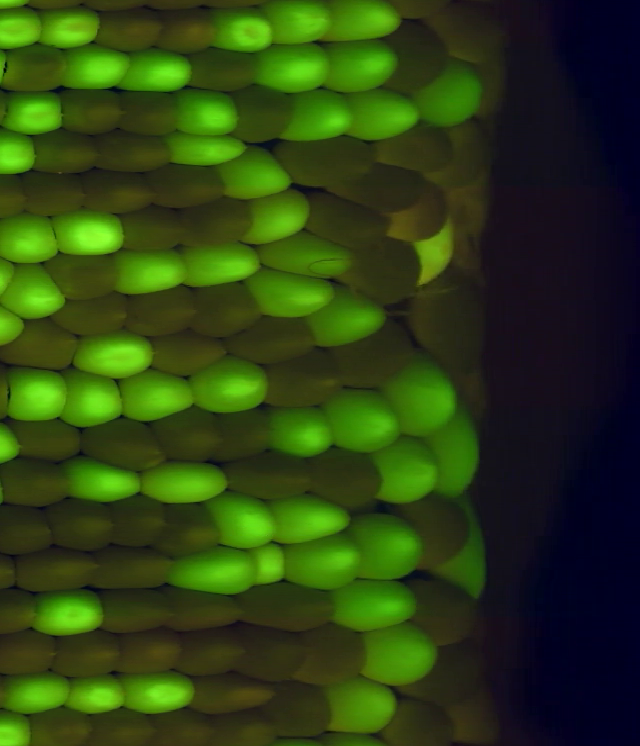fluorescent: (382, 353, 458, 441), (342, 513, 427, 585), (366, 431, 445, 507), (320, 386, 402, 459), (309, 282, 394, 350), (257, 225, 357, 280), (355, 624, 441, 687), (205, 487, 284, 555), (189, 355, 274, 418), (428, 397, 479, 502), (158, 546, 264, 594), (418, 57, 488, 129), (247, 265, 343, 317), (327, 578, 421, 631), (342, 86, 423, 143), (323, 37, 401, 96), (121, 362, 197, 422), (58, 453, 149, 503), (53, 366, 124, 429), (29, 588, 113, 641), (3, 362, 73, 425), (269, 493, 354, 544), (255, 39, 333, 93), (202, 4, 278, 59), (109, 246, 196, 294), (287, 538, 364, 591), (319, 682, 399, 733), (266, 403, 336, 461), (217, 146, 295, 198), (139, 460, 233, 503), (4, 260, 68, 322), (239, 191, 313, 243), (74, 333, 159, 378), (122, 46, 195, 98), (49, 208, 128, 256), (119, 669, 199, 716), (319, 1, 404, 45), (285, 90, 355, 143), (163, 129, 249, 172), (261, 1, 336, 49), (63, 44, 131, 96), (0, 211, 62, 267), (184, 242, 260, 287), (450, 520, 493, 598), (1, 88, 68, 138), (33, 6, 107, 51), (175, 88, 238, 137), (7, 670, 75, 715), (69, 672, 131, 716), (0, 127, 41, 177), (0, 7, 45, 52), (247, 541, 291, 585), (0, 711, 35, 746), (0, 1, 38, 15)
nonfluorescent: (411, 264, 490, 373), (398, 493, 473, 580), (400, 572, 482, 650), (340, 237, 424, 309), (305, 188, 392, 257), (381, 22, 454, 96), (229, 311, 326, 366), (401, 646, 486, 708), (237, 582, 339, 632), (256, 352, 344, 409), (276, 134, 373, 185), (4, 315, 81, 377), (234, 625, 308, 689), (327, 338, 414, 391), (221, 451, 317, 499), (82, 416, 165, 471), (297, 623, 366, 687), (144, 330, 232, 380), (372, 123, 454, 176), (41, 499, 119, 554), (154, 499, 225, 559), (343, 161, 423, 214), (307, 449, 384, 504), (90, 546, 177, 594), (384, 179, 451, 241), (189, 279, 257, 339), (96, 127, 175, 177), (157, 409, 227, 465), (443, 13, 512, 69), (454, 363, 501, 445), (45, 250, 122, 300), (81, 167, 158, 217), (438, 120, 493, 190), (230, 84, 294, 144), (164, 586, 244, 634), (264, 683, 333, 738), (120, 288, 200, 335), (99, 588, 179, 635), (183, 199, 258, 249), (13, 551, 105, 591), (115, 205, 190, 254), (56, 86, 128, 137), (184, 47, 262, 94), (186, 675, 280, 714), (151, 163, 229, 209), (387, 697, 460, 746), (0, 459, 74, 507), (20, 168, 89, 219), (53, 293, 132, 337), (118, 85, 180, 140), (28, 131, 102, 176), (1, 45, 67, 95), (181, 629, 249, 677), (106, 496, 168, 548), (157, 9, 220, 58), (0, 503, 55, 559), (50, 634, 127, 674), (12, 418, 85, 460), (93, 10, 166, 52), (219, 404, 269, 464), (121, 632, 186, 677), (0, 630, 58, 676), (25, 710, 98, 746), (94, 709, 163, 746), (158, 705, 215, 746), (0, 589, 42, 638), (224, 712, 274, 746), (392, 1, 457, 21), (206, 1, 267, 14), (147, 1, 203, 14), (84, 1, 144, 10), (29, 1, 81, 11)
